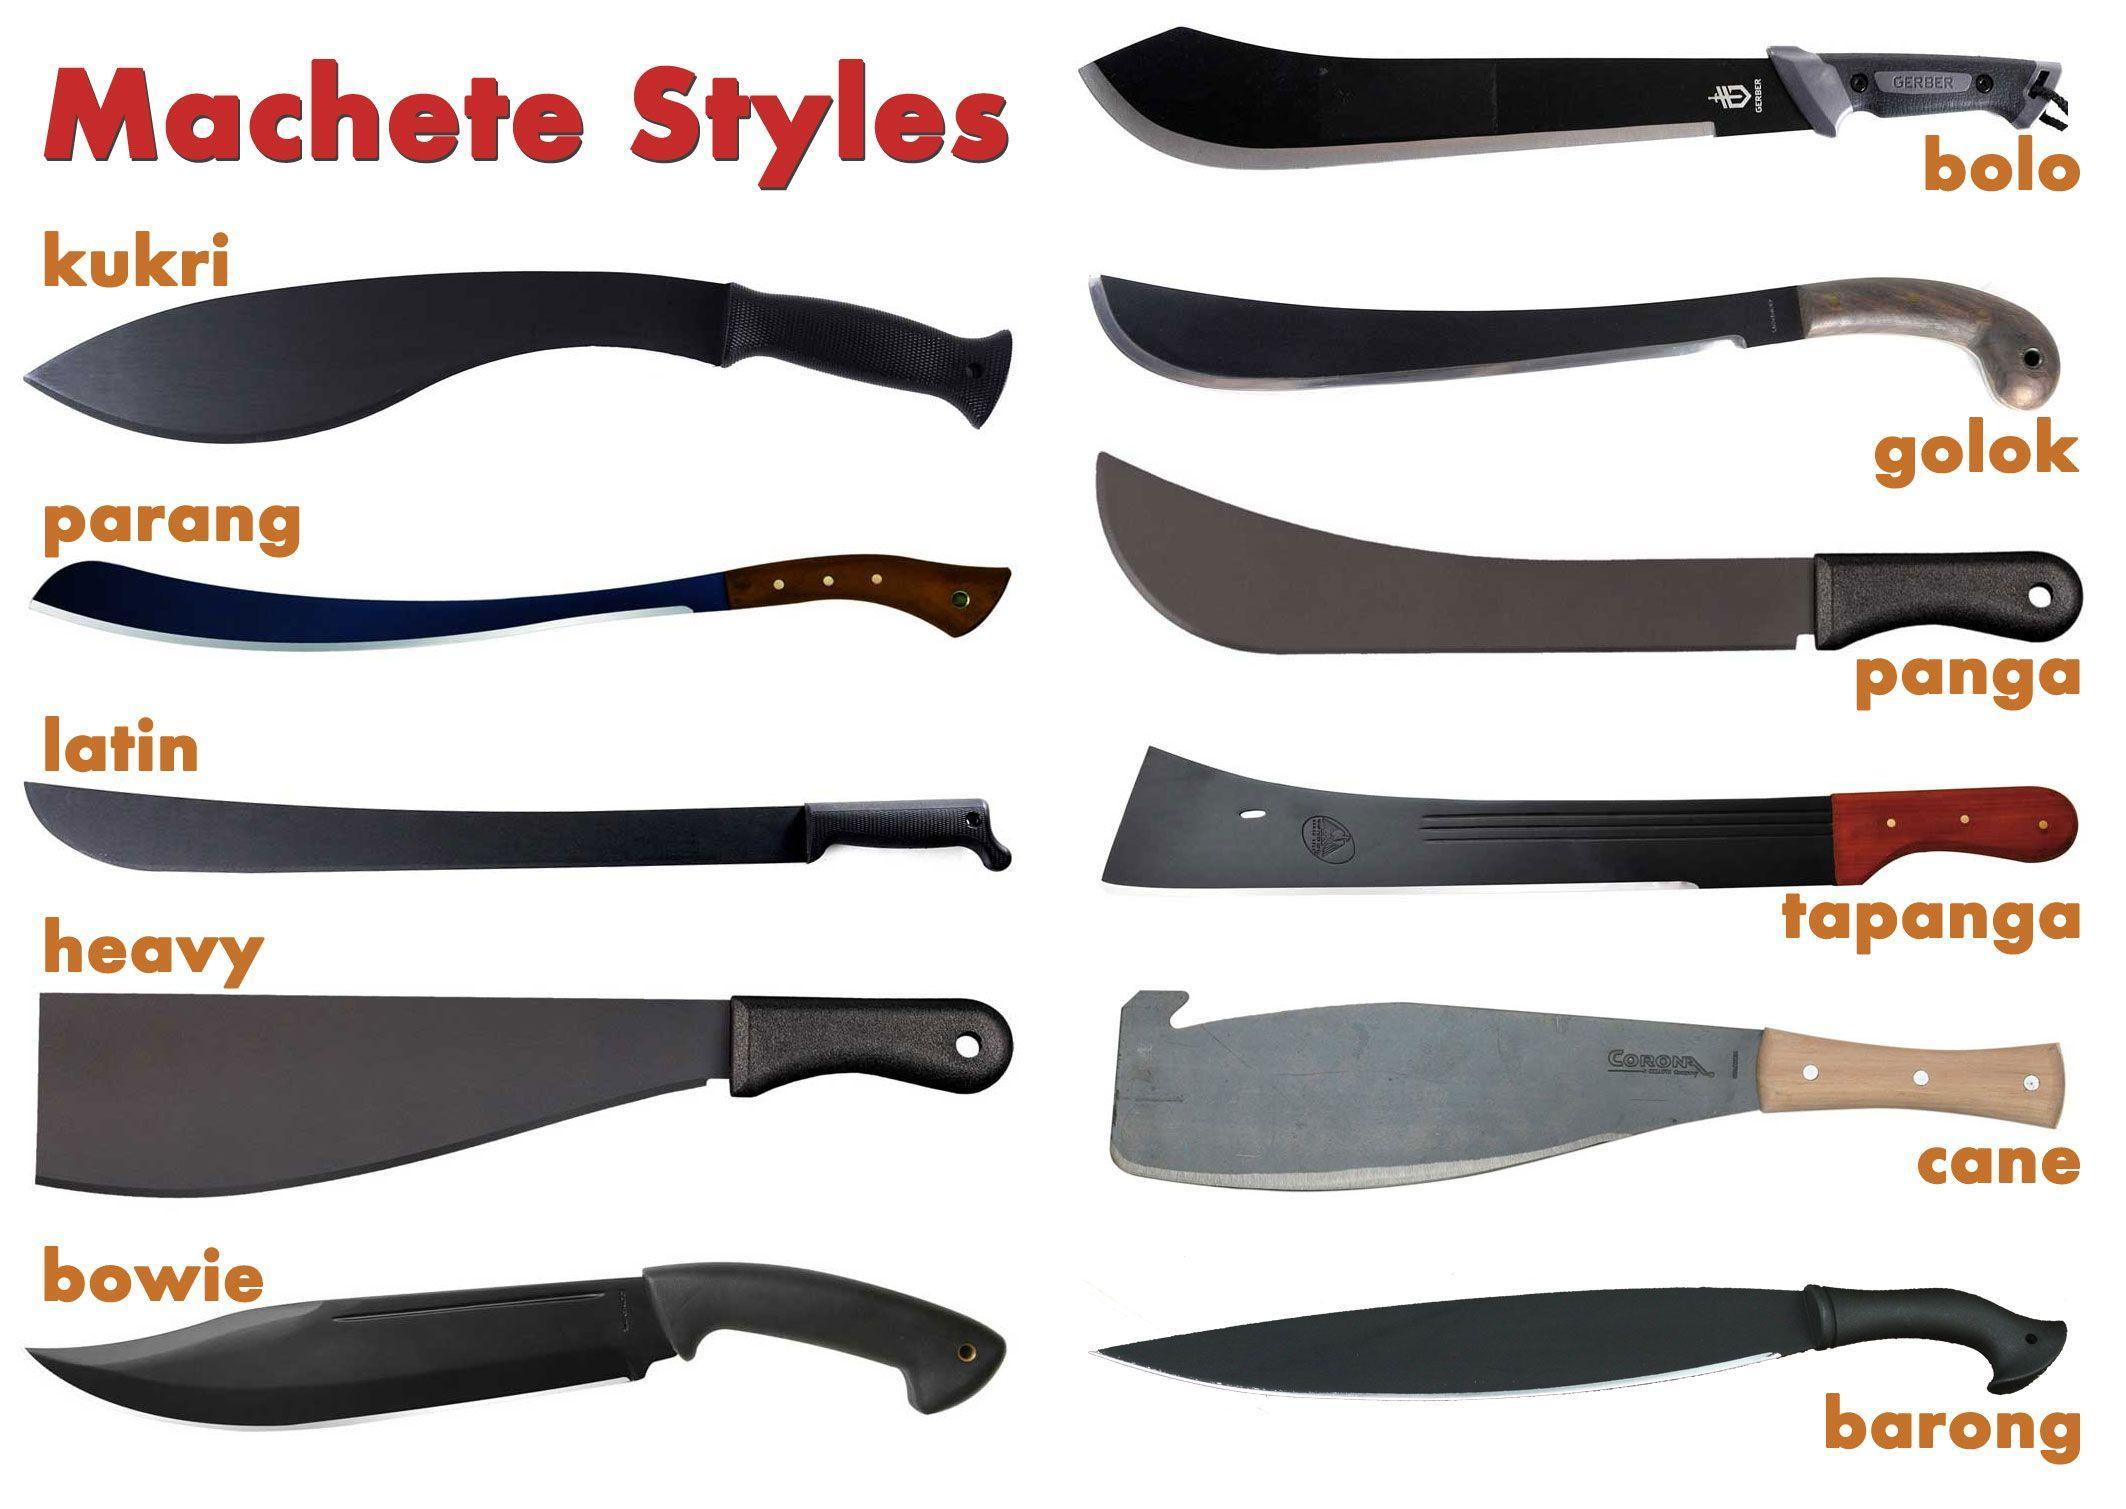facao: (1092, 952, 2092, 1215), (1092, 405, 2080, 665), (0, 962, 1007, 1212), (34, 234, 1007, 444), (1084, 707, 2105, 905), (0, 505, 1016, 674), (38, 1257, 1007, 1431), (0, 745, 988, 913), (1087, 1266, 2100, 1426), (1055, 238, 2067, 395), (1074, 10, 2085, 160)
